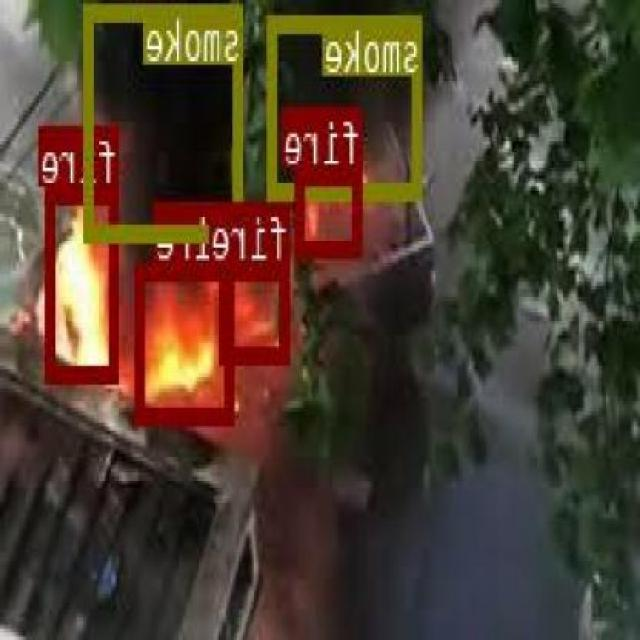Fire: (137, 260, 237, 422), (47, 183, 121, 380), (222, 259, 290, 359), (297, 167, 363, 255)
Smoke: (86, 3, 243, 240), (270, 12, 422, 196)
